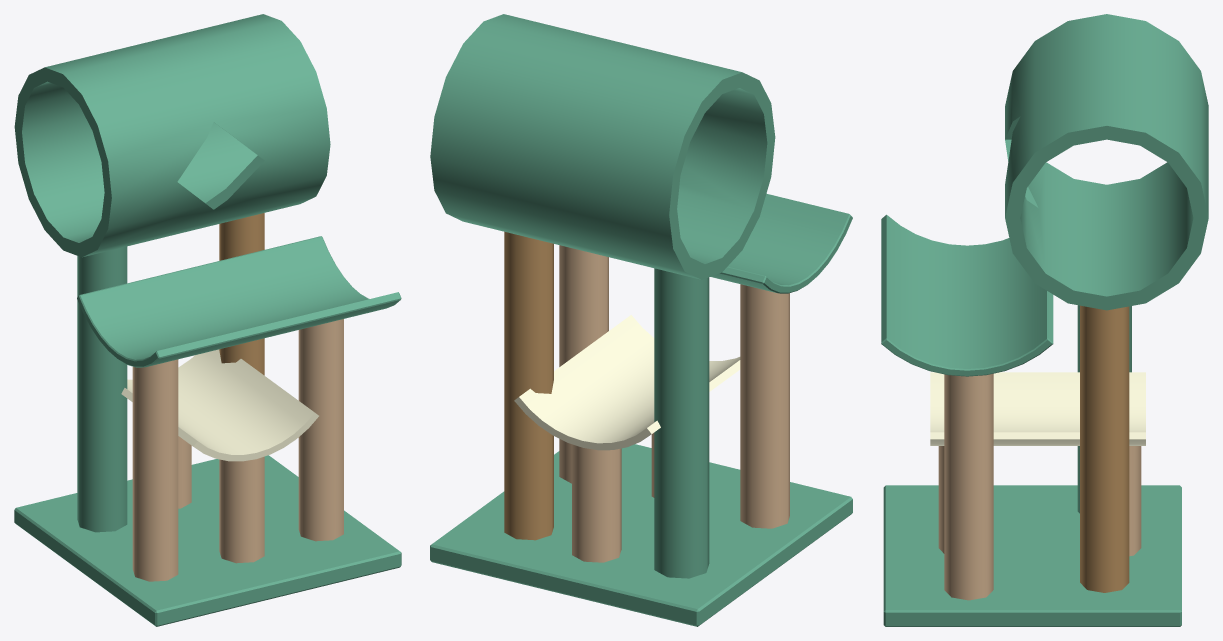
File: SIEFRING_CatTree_LP.obj
3 renders of one model, left to right at view 1: azimuth 30°, elevation 25°; view 2: azimuth 150°, elevation 25°; view 3: azimuth 270°, elevation 25°, orthographic. The views are drawn at different scales.
Parts seen in each view (by area): view 1: Mesh_CatTree1 pPipe2, pPlane1 Mesh_CatTree1, Mesh_CatTree1 pPlane2, Mesh_CatTree1 pCylinder5, Mesh_CatTree1 pPlane3, Mesh_CatTree1 pCylinder2, Mesh_CatTree1 pCylinder1, Mesh_CatTree1 pCylinder4, Mesh_CatTree1 pCylinder6, Mesh_CatTree1 pCylinder3; view 2: Mesh_CatTree1 pPipe2, pPlane1 Mesh_CatTree1, Mesh_CatTree1 pCylinder5, Mesh_CatTree1 pCylinder6, Mesh_CatTree1 pPlane3, Mesh_CatTree1 pCylinder2, Mesh_CatTree1 pPlane2, Mesh_CatTree1 pCylinder3, Mesh_CatTree1 pCylinder1; view 3: Mesh_CatTree1 pPipe2, pPlane1 Mesh_CatTree1, Mesh_CatTree1 pPlane2, Mesh_CatTree1 pCylinder6, Mesh_CatTree1 pCylinder1, Mesh_CatTree1 pPlane3, Mesh_CatTree1 pCylinder3, Mesh_CatTree1 pCylinder4, Mesh_CatTree1 pCylinder5.
Part boxes in pixels (x1=…): Mesh_CatTree1 pPipe2: x1=14, y1=14, x2=330, y2=257; pPlane1 Mesh_CatTree1: x1=14, y1=455, x2=401, y2=626; Mesh_CatTree1 pPlane2: x1=77, y1=236, x2=401, y2=367; Mesh_CatTree1 pCylinder5: x1=77, y1=246, x2=127, y2=532; Mesh_CatTree1 pPlane3: x1=121, y1=349, x2=318, y2=461; Mesh_CatTree1 pCylinder2: x1=132, y1=359, x2=178, y2=581; Mesh_CatTree1 pCylinder1: x1=298, y1=319, x2=343, y2=541; Mesh_CatTree1 pCylinder4: x1=219, y1=456, x2=264, y2=563; Mesh_CatTree1 pCylinder6: x1=219, y1=213, x2=264, y2=375; Mesh_CatTree1 pCylinder3: x1=178, y1=436, x2=191, y2=508; Mesh_CatTree1 pPipe2: x1=430, y1=14, x2=775, y2=279; pPlane1 Mesh_CatTree1: x1=430, y1=444, x2=852, y2=626; Mesh_CatTree1 pCylinder5: x1=654, y1=268, x2=709, y2=578; Mesh_CatTree1 pCylinder6: x1=504, y1=231, x2=553, y2=540; Mesh_CatTree1 pPlane3: x1=514, y1=315, x2=740, y2=450; Mesh_CatTree1 pCylinder2: x1=740, y1=284, x2=789, y2=528; Mesh_CatTree1 pPlane2: x1=710, y1=193, x2=852, y2=293; Mesh_CatTree1 pCylinder3: x1=572, y1=444, x2=621, y2=562; Mesh_CatTree1 pCylinder1: x1=559, y1=245, x2=608, y2=483; Mesh_CatTree1 pPipe2: x1=1005, y1=14, x2=1208, y2=310; pPlane1 Mesh_CatTree1: x1=883, y1=485, x2=1181, y2=626; Mesh_CatTree1 pPlane2: x1=881, y1=214, x2=1053, y2=376; Mesh_CatTree1 pCylinder6: x1=1080, y1=305, x2=1129, y2=592; Mesh_CatTree1 pCylinder1: x1=944, y1=373, x2=993, y2=600; Mesh_CatTree1 pPlane3: x1=930, y1=372, x2=1145, y2=445; Mesh_CatTree1 pCylinder3: x1=1129, y1=446, x2=1141, y2=556; Mesh_CatTree1 pCylinder4: x1=938, y1=446, x2=944, y2=553; Mesh_CatTree1 pCylinder5: x1=1077, y1=305, x2=1131, y2=513.
Bounding box in the file's own units: 3.61 × 6.62 × 3.97.
1 material, 1 textured.
